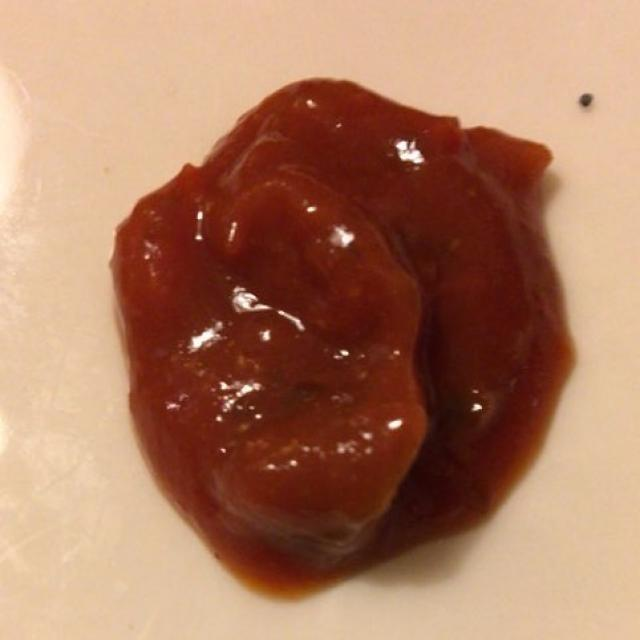ketchup: (115, 79, 564, 584)
